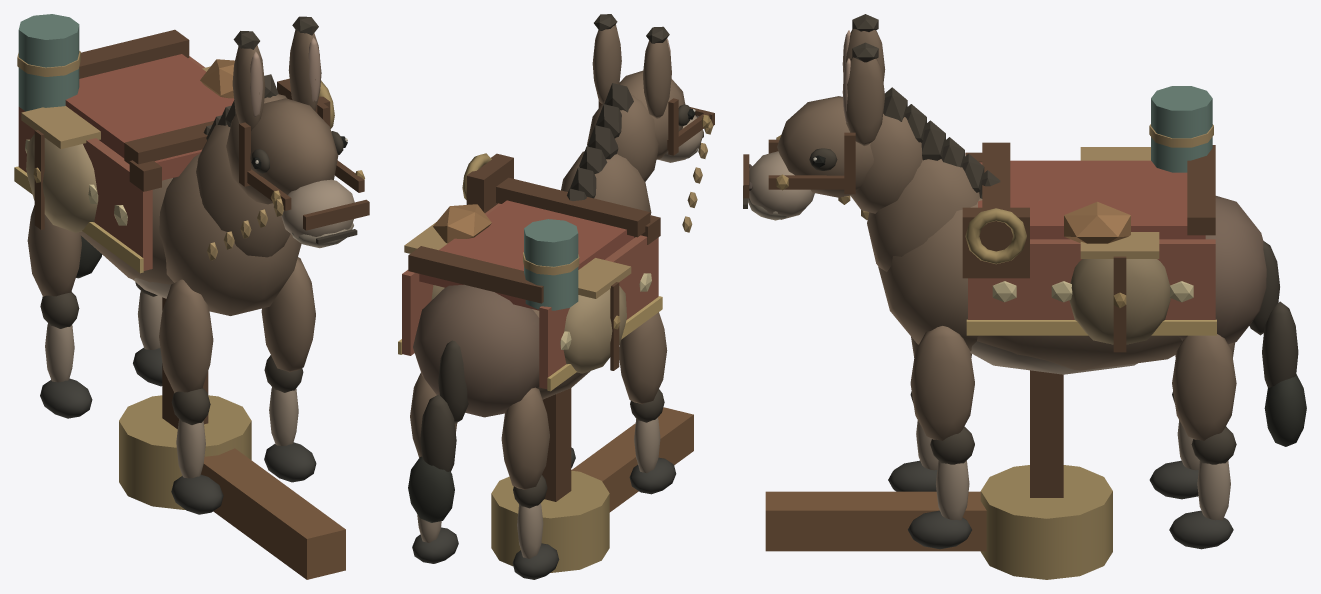
Rendered from city-mule.glb.
The picture shows the model from 3 angles, left to right: view 1: azimuth 30°, elevation 25°; view 2: azimuth 150°, elevation 25°; view 3: azimuth 270°, elevation 25°; orthographic projection. The views are drawn at different scales.
Visible parts, largest first — view 1: pack-body-mesh, pack-head-mesh, pack-drive-arm-mesh, pack-leg--1-1-mesh, pack-drive-hub-mesh, pack-leg-1-1-mesh, pack-neck-mesh, pack-leg--1--1-mesh, pack-leg-1--1-mesh, pack-drive-drop-mesh, pack-tail-mesh; view 2: pack-body-mesh, pack-neck-mesh, pack-head-mesh, pack-drive-hub-mesh, pack-leg--1--1-mesh, pack-tail-mesh, pack-leg--1-1-mesh, pack-drive-arm-mesh, pack-drive-drop-mesh, pack-leg-1--1-mesh; view 3: pack-body-mesh, pack-head-mesh, pack-neck-mesh, pack-drive-hub-mesh, pack-drive-arm-mesh, pack-leg-1-1-mesh, pack-leg-1--1-mesh, pack-tail-mesh, pack-drive-drop-mesh, pack-leg--1--1-mesh, pack-leg--1-1-mesh.
Part boxes in pixels (x1,y1,x2,y2): pack-body-mesh: (14,14,334,315); pack-head-mesh: (232,16,369,248); pack-drive-arm-mesh: (201,448,345,579); pack-leg--1-1-mesh: (159,279,223,514); pack-drive-hub-mesh: (119,395,251,509); pack-leg-1-1-mesh: (261,257,316,482); pack-neck-mesh: (196,74,290,260); pack-leg--1--1-mesh: (27,205,92,418); pack-leg-1--1-mesh: (133,282,162,386); pack-drive-drop-mesh: (162,297,208,428); pack-tail-mesh: (76,236,102,278); pack-body-mesh: (398,153,662,417); pack-neck-mesh: (561,83,713,232); pack-head-mesh: (592,14,714,162); pack-drive-hub-mesh: (491,470,609,572); pack-leg--1--1-mesh: (501,387,559,579); pack-tail-mesh: (408,340,468,522); pack-leg--1-1-mesh: (619,312,676,494); pack-drive-arm-mesh: (571,407,693,512); pack-drive-drop-mesh: (542,388,571,501); pack-leg-1--1-mesh: (410,373,458,563); pack-body-mesh: (878,86,1266,374); pack-head-mesh: (743,14,885,220); pack-neck-mesh: (838,87,1000,271); pack-drive-hub-mesh: (980,465,1112,579); pack-drive-arm-mesh: (765,491,986,551); pack-leg-1-1-mesh: (908,326,974,549); pack-leg-1--1-mesh: (1169,334,1236,549); pack-tail-mesh: (1249,241,1306,446); pack-drive-drop-mesh: (1030,370,1063,497); pack-leg--1--1-mesh: (1149,342,1235,499); pack-leg--1-1-mesh: (888,337,971,491).
Size of the model in its own units: 0.9264 by 2.04 by 2.01.
